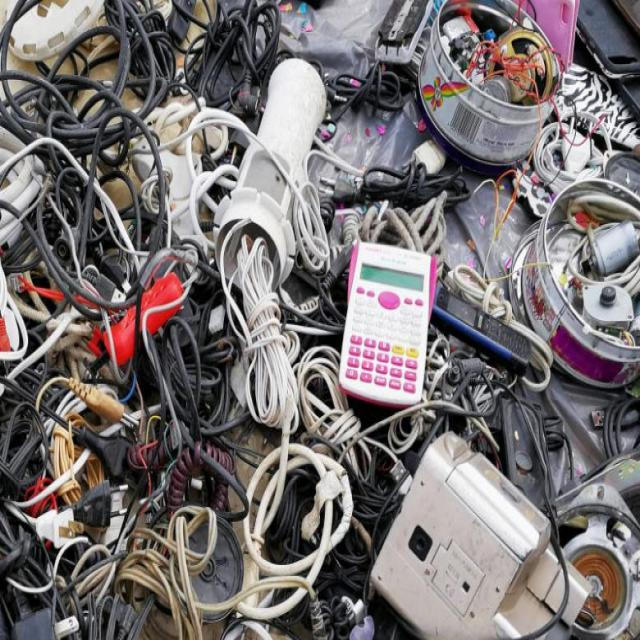hazard: (0, 7, 630, 633), (379, 436, 588, 640), (337, 243, 440, 397), (221, 229, 294, 425), (565, 219, 640, 332)
